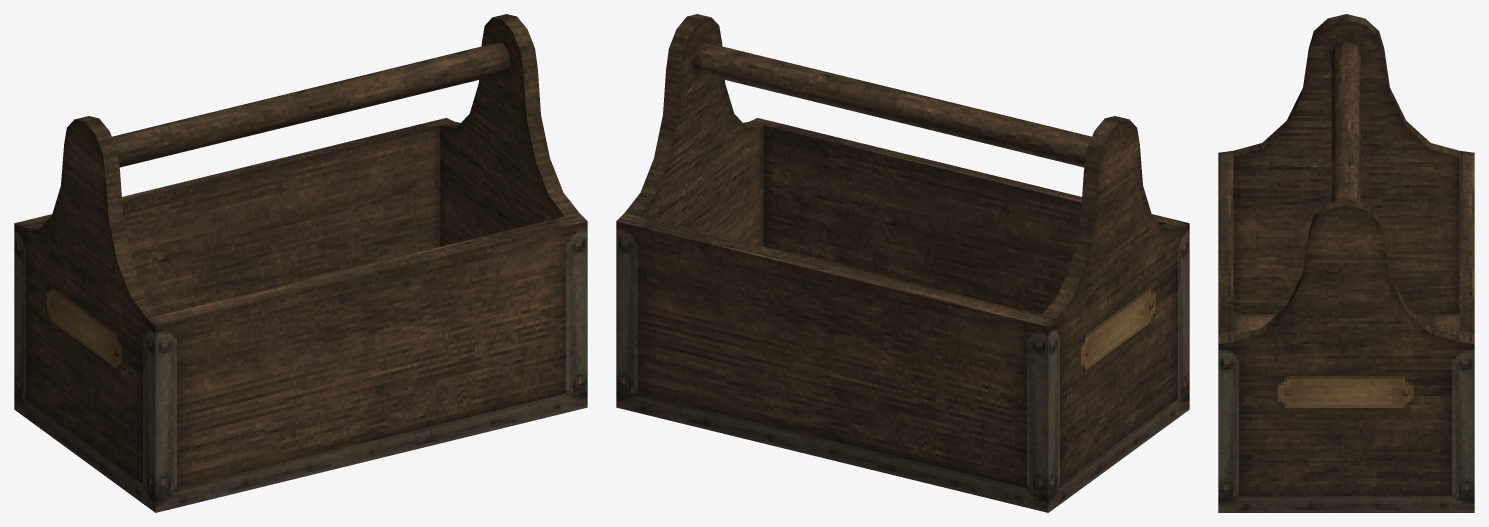
The model's file is toolbox_mx_1.glb.
3 views of the same model, side by side, from view 1: azimuth 30°, elevation 25°; view 2: azimuth 150°, elevation 25°; view 3: azimuth 270°, elevation 25° (orthographic). The views are drawn at different scales.
Visible parts, largest first — view 1: toolbox_mx_1; view 2: toolbox_mx_1; view 3: toolbox_mx_1.
Boxes of the visible parts, left/top/right/bottom form: toolbox_mx_1: left=14, top=14, right=587, bottom=512; toolbox_mx_1: left=616, top=14, right=1189, bottom=512; toolbox_mx_1: left=1218, top=14, right=1474, bottom=512.
Bounding box in the file's own units: 0.6 × 0.45 × 0.34.
1 material, 1 textured.
